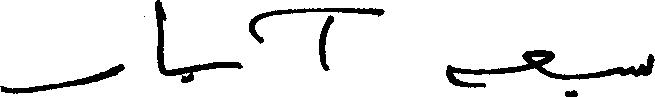X: (0, 59, 124, 96), (446, 60, 483, 92), (524, 45, 553, 82), (319, 3, 333, 75), (154, 0, 165, 80), (635, 49, 654, 81), (615, 62, 624, 80), (231, 57, 241, 73)
